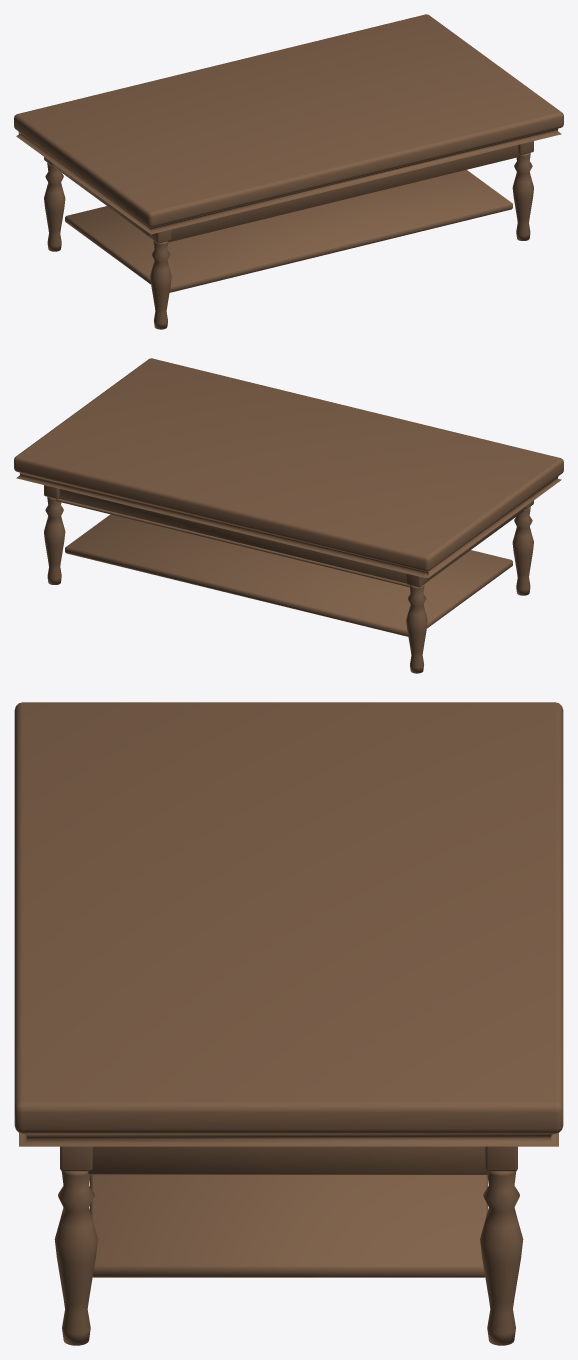
The model's file is coffee_table.glb.
The picture shows the model from 3 angles, top to bottom: view 1: azimuth 30°, elevation 25°; view 2: azimuth 150°, elevation 25°; view 3: azimuth 270°, elevation 25°; orthographic projection. The views are drawn at different scales.
Parts seen in each view (by area): view 1: coffee_table; view 2: coffee_table; view 3: coffee_table.
Boxes of the visible parts, x1,y1,x2,y2 form: coffee_table: [14, 14, 563, 329]; coffee_table: [14, 358, 563, 673]; coffee_table: [14, 702, 563, 1345].
Size of the model in its own units: 1.4 by 0.42 by 0.8.
